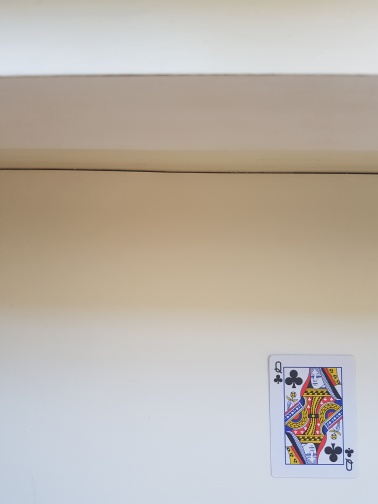queen: (267, 352, 360, 481)
